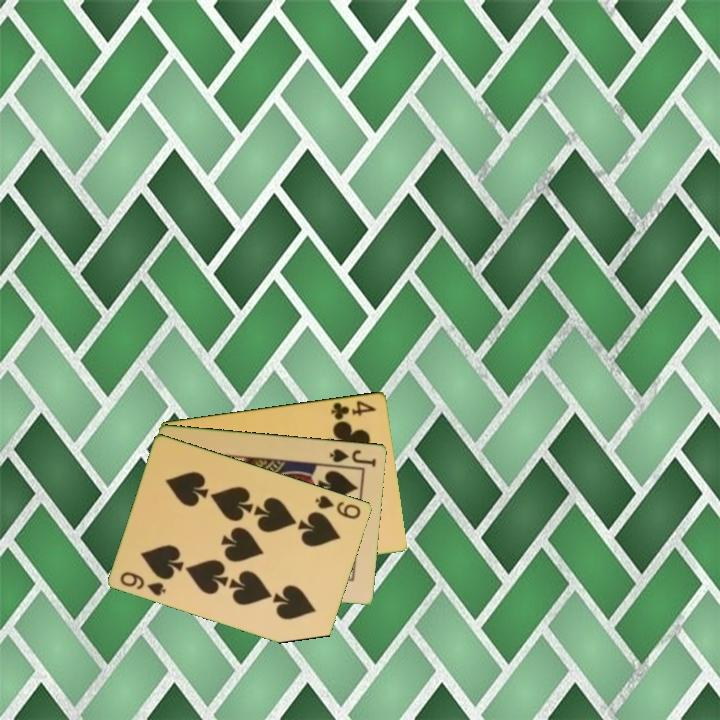4c: (328, 397, 379, 422)
9s: (312, 491, 364, 522), (117, 568, 169, 598)
Js: (326, 445, 379, 469)
